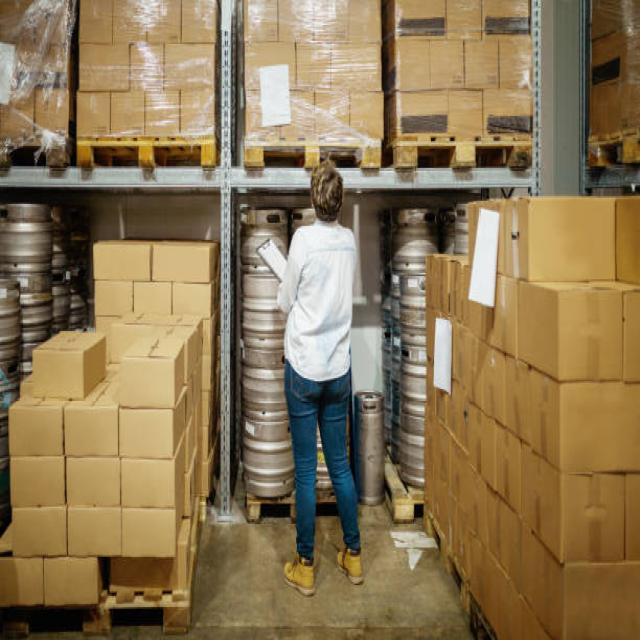Wooden-Pallets: (396, 136, 534, 176), (245, 135, 382, 174), (78, 141, 217, 173), (9, 612, 194, 634)
